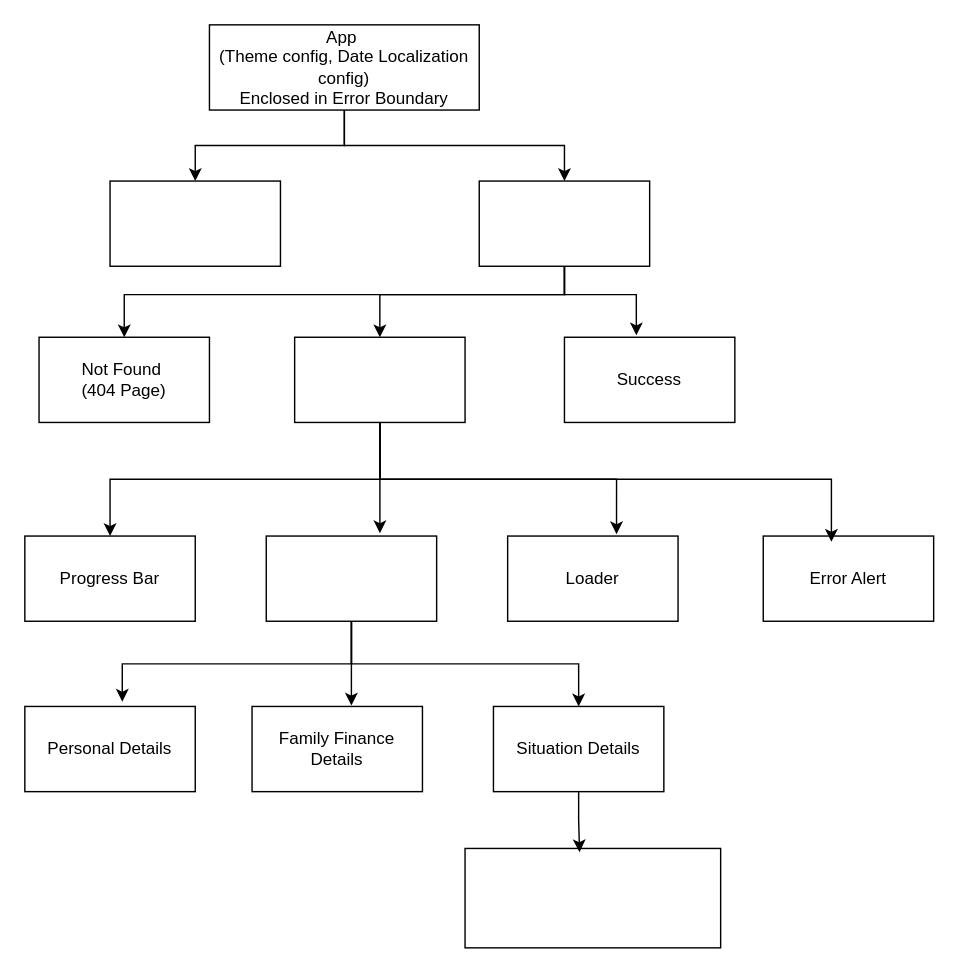
Some shapes in this 959 by 973 pixel diagram are drawn without their labels. Each missing label, with the box of its shape:
AI Modal Helper (Show AI suggestion based on field and inputs): (464, 847, 721, 948)
Application Page: (265, 535, 437, 621)
AppRouter: (478, 180, 650, 266)
Language Switcher (Switch between EN and AR on action): (109, 180, 280, 266)
Main Layout: (293, 336, 465, 422)
